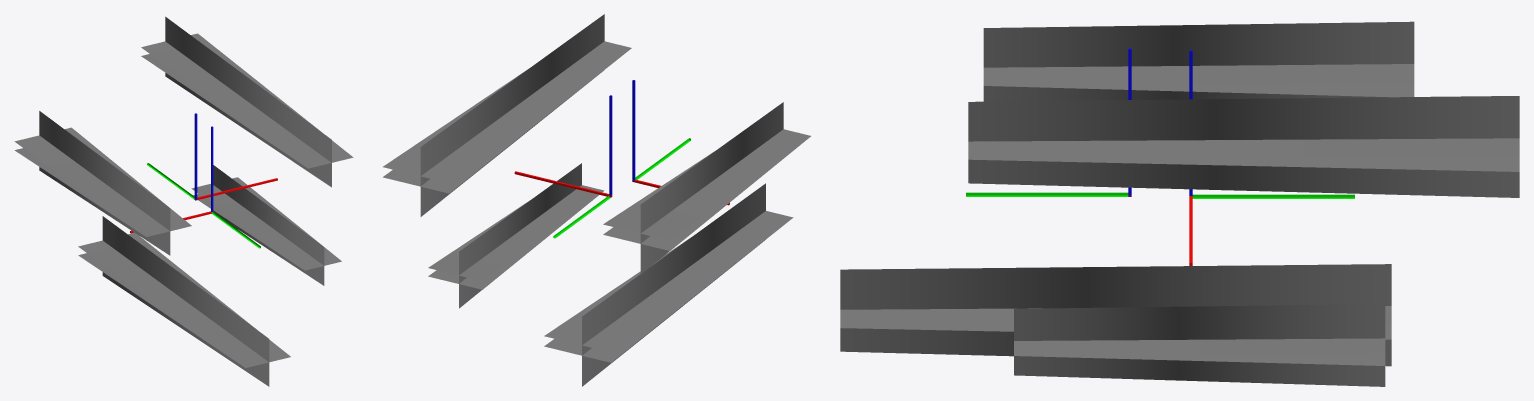
Rendered from manticore-barbs.glb.
3 views of the same model, side by side, from view 1: azimuth 30°, elevation 25°; view 2: azimuth 150°, elevation 25°; view 3: azimuth 270°, elevation 25° (orthographic). The views are drawn at different scales.
Parts seen in each view (by area): view 1: special g manticore barbsModel, Dummy_hotspot, Dummy_attachpoint; view 2: special g manticore barbsModel, Dummy_hotspot, Dummy_attachpoint; view 3: special g manticore barbsModel, Dummy_hotspot, Dummy_attachpoint.
Boxes of the visible parts, x1,y1,x2,y2 form: special g manticore barbsModel: [14, 16, 353, 386]; Dummy_hotspot: [147, 113, 277, 200]; Dummy_attachpoint: [130, 126, 260, 248]; special g manticore barbsModel: [383, 14, 810, 386]; Dummy_hotspot: [514, 95, 612, 238]; Dummy_attachpoint: [632, 80, 729, 205]; special g manticore barbsModel: [840, 21, 1519, 386]; Dummy_hotspot: [1189, 50, 1354, 265]; Dummy_attachpoint: [966, 48, 1131, 196].
Bounding box in the file's own units: 0.6523 × 0.6016 × 1.05.
Materials: 2 (1 with a texture image).
